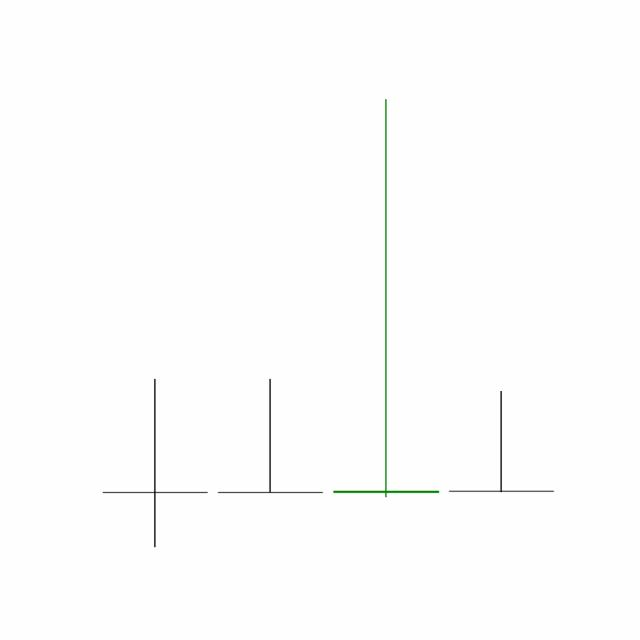Gravestone Doji: (328, 94, 444, 502)
